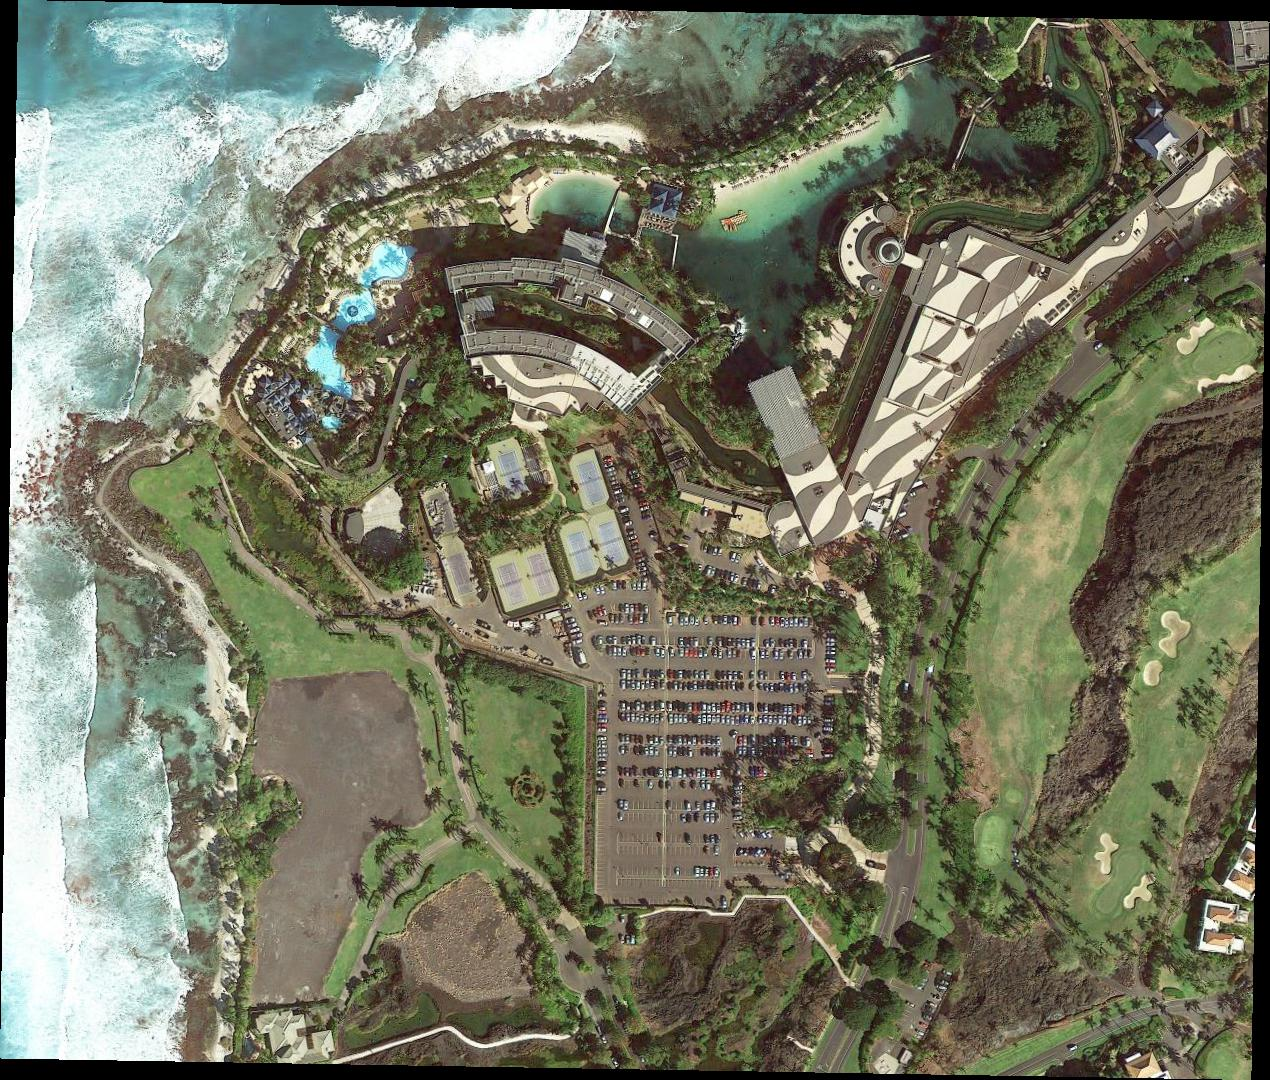ship: (1045, 74, 1055, 89)
